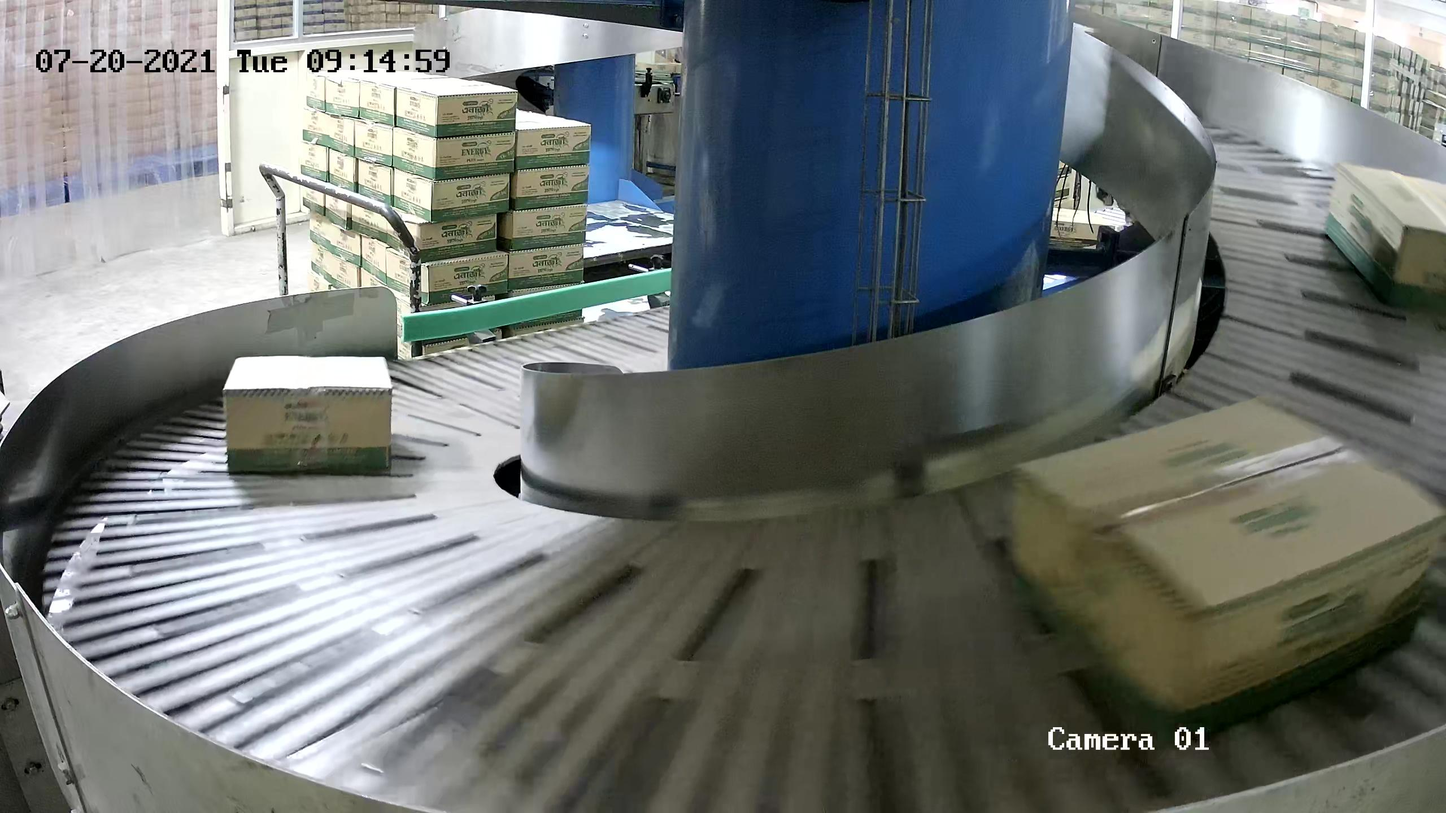Box: (1002, 392, 1446, 759), (221, 351, 394, 481), (1319, 158, 1446, 322)
